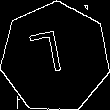L_S: (36, 30, 75, 85)
